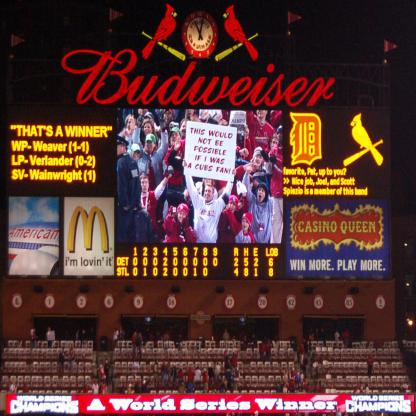face: (182, 123, 190, 138), (171, 134, 180, 147), (258, 188, 266, 202), (206, 188, 213, 202), (243, 219, 250, 232), (255, 154, 262, 167), (146, 141, 154, 152), (258, 108, 266, 119), (145, 125, 152, 137), (165, 112, 172, 124), (139, 107, 147, 117), (142, 181, 149, 192), (180, 211, 187, 222), (129, 119, 135, 131), (206, 177, 213, 187), (230, 202, 236, 213), (273, 140, 279, 151), (187, 108, 194, 117), (134, 151, 139, 161), (278, 132, 283, 142), (222, 120, 228, 127), (120, 146, 124, 156), (254, 179, 257, 185)
